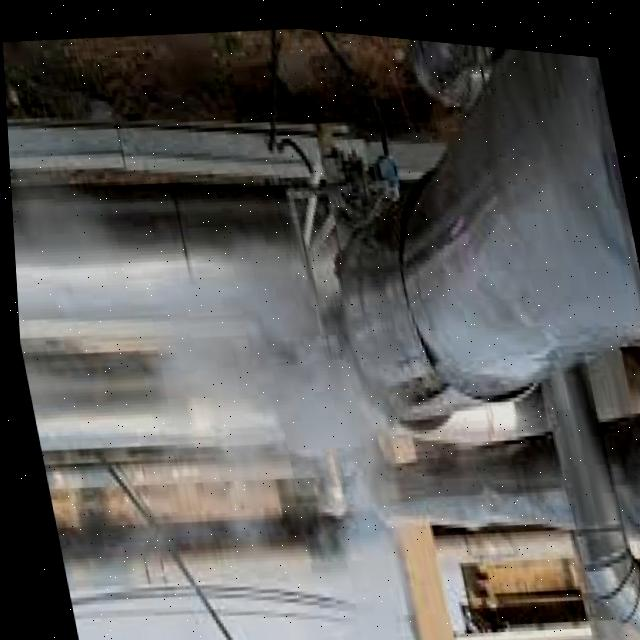corrosion: (140, 171, 483, 502)
